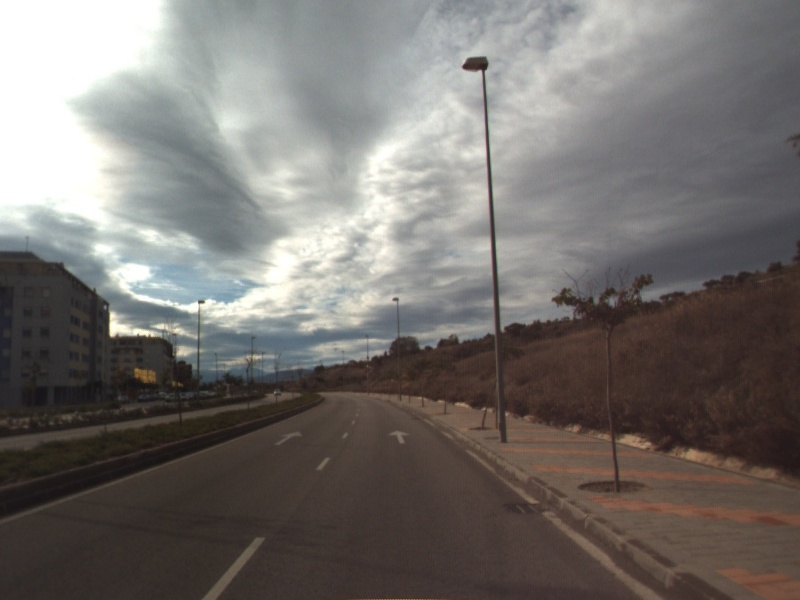STRAIGHT: (272, 428, 305, 447), (386, 428, 413, 445)
